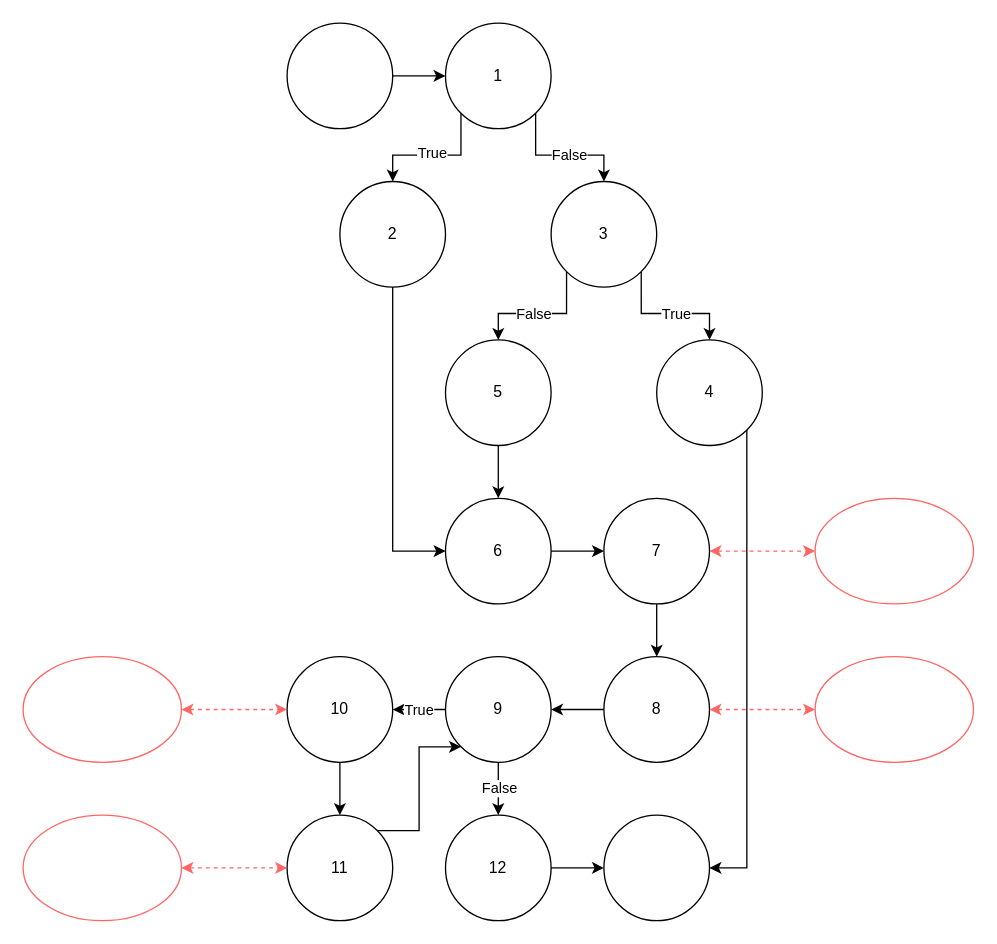
The diagram is 997 pixels wide and 944 high, and some of its shapes have lost their labels. The shapes that lost their labels are listed below. From the top down, each one's centre as x and y in pixels, then its label:
(339,75): Start
(894,550): open_token_stream
(102,708): print_token
(894,708): get_token_stream
(102,867): get_token
(656,867): End
